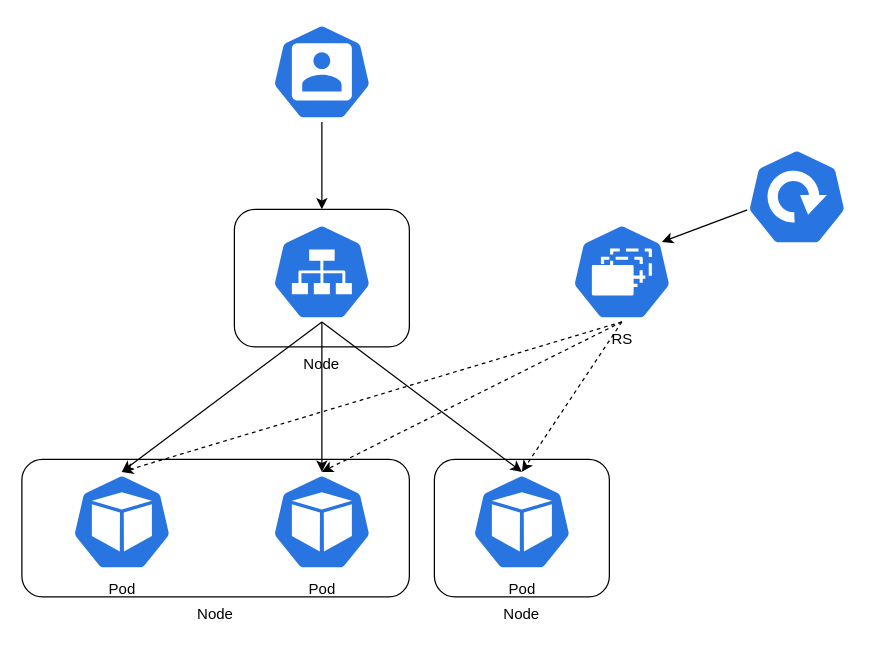
Some shapes in this 869 by 645 pixel diagram are drawn without their labels. Each missing label, with the centre of its shape:
"Deployment" belongs at point 796,196.
"Service" belongs at point 321,271.
